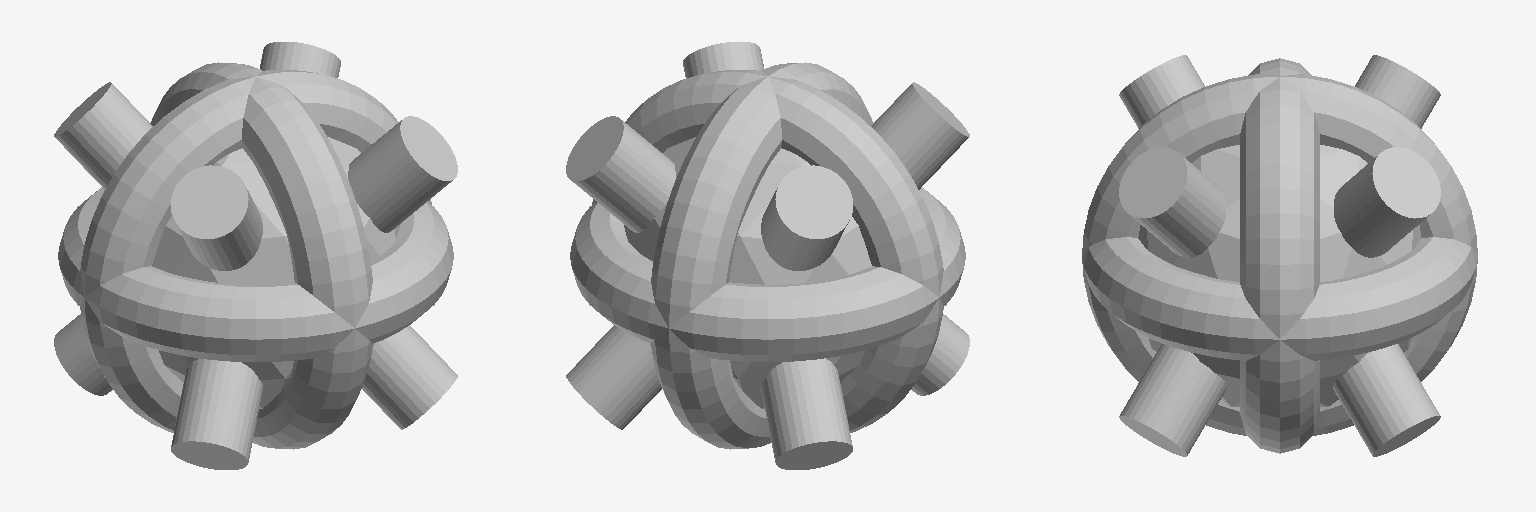
Rendered from enemyboss.obj.
The picture shows the model from 3 angles: view 1: azimuth 30°, elevation 25°; view 2: azimuth 150°, elevation 25°; view 3: azimuth 270°, elevation 25°; orthographic projection.
Visible parts, largest first — view 1: Torus, Torus.001, Torus.002, Icosphere, Cylinder.006, Cylinder.003, Cylinder.005, Cylinder.004, Cylinder.007, Cylinder.008, Cylinder.001; view 2: Torus, Torus.001, Torus.002, Icosphere, Cylinder.008, Cylinder.001, Cylinder.007, Cylinder.002, Cylinder.005, Cylinder.006, Cylinder.003; view 3: Torus, Torus.002, Torus.001, Icosphere, Cylinder.001, Cylinder.003, Cylinder.002, Cylinder.004, Cylinder.005, Cylinder.007.
Part boxes in pixels (left/top/right/bottom): Torus: left=58, top=187, right=453, bottom=361; Torus.001: left=150, top=62, right=372, bottom=449; Torus.002: left=80, top=70, right=431, bottom=432; Icosphere: left=152, top=137, right=399, bottom=408; Cylinder.006: left=171, top=358, right=262, bottom=469; Cylinder.003: left=348, top=116, right=457, bottom=232; Cylinder.005: left=171, top=165, right=262, bottom=270; Cylinder.004: left=362, top=325, right=457, bottom=429; Cylinder.007: left=54, top=82, right=152, bottom=189; Cylinder.008: left=54, top=314, right=112, bottom=395; Cylinder.001: left=260, top=42, right=340, bottom=77; Torus: left=570, top=187, right=965, bottom=361; Torus.001: left=651, top=62, right=873, bottom=449; Torus.002: left=592, top=70, right=943, bottom=432; Icosphere: left=624, top=137, right=871, bottom=408; Cylinder.008: left=761, top=358, right=852, bottom=469; Cylinder.001: left=566, top=116, right=675, bottom=232; Cylinder.007: left=761, top=165, right=852, bottom=270; Cylinder.002: left=566, top=325, right=661, bottom=429; Cylinder.005: left=871, top=82, right=969, bottom=189; Cylinder.006: left=911, top=314, right=969, bottom=395; Cylinder.003: left=683, top=42, right=763, bottom=77; Torus: left=1082, top=237, right=1477, bottom=360; Torus.002: left=1240, top=58, right=1319, bottom=453; Torus.001: left=1082, top=74, right=1477, bottom=435; Icosphere: left=1138, top=145, right=1421, bottom=406; Cylinder.001: left=1334, top=147, right=1440, bottom=257; Cylinder.003: left=1119, top=147, right=1225, bottom=257; Cylinder.002: left=1333, top=344, right=1440, bottom=456; Cylinder.004: left=1119, top=344, right=1226, bottom=456; Cylinder.005: left=1119, top=55, right=1204, bottom=128; Cylinder.007: left=1355, top=55, right=1440, bottom=128.
Size of the model in its own units: 2.5 by 2.5 by 2.5.